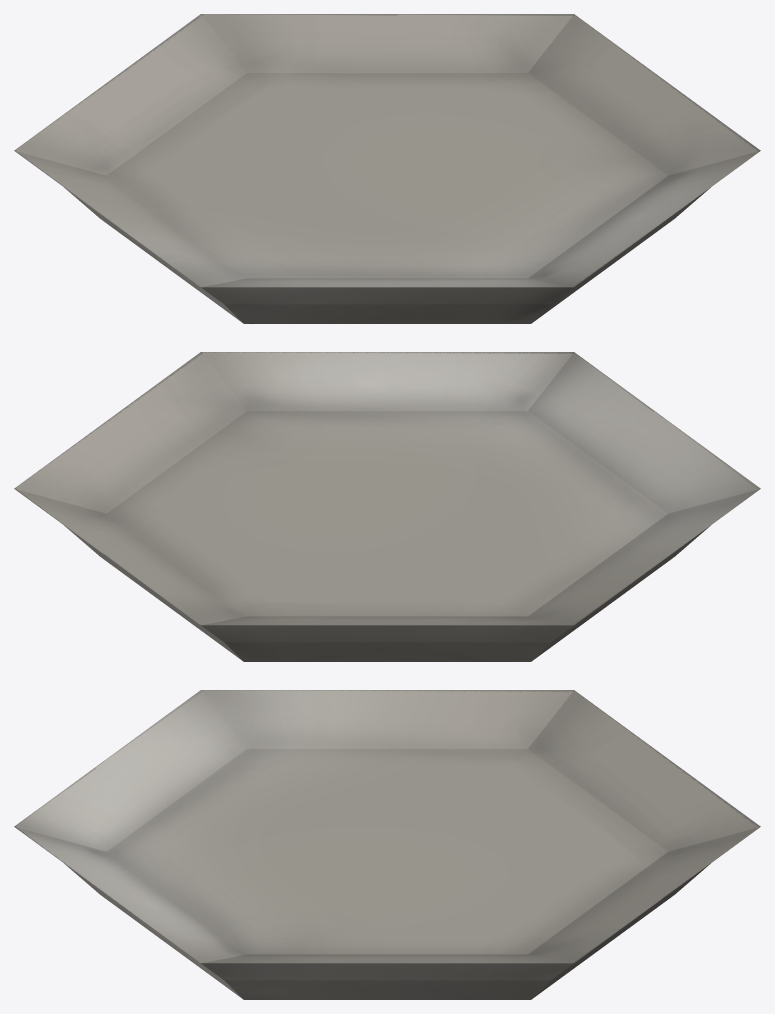
Rendered from dish.obj.
3 renders of one model, top to bottom at view 1: azimuth 30°, elevation 25°; view 2: azimuth 150°, elevation 25°; view 3: azimuth 270°, elevation 25°, orthographic.
Parts seen in each view (by area): view 1: Plato_Circle.009; view 2: Plato_Circle.009; view 3: Plato_Circle.009.
Part boxes in pixels (x1,y1,x2,y2): Plato_Circle.009: (14,14,760,323); Plato_Circle.009: (14,352,760,661); Plato_Circle.009: (14,690,760,999).
Bounding box in the file's own units: 0.3839 × 0.0446 × 0.4433.
